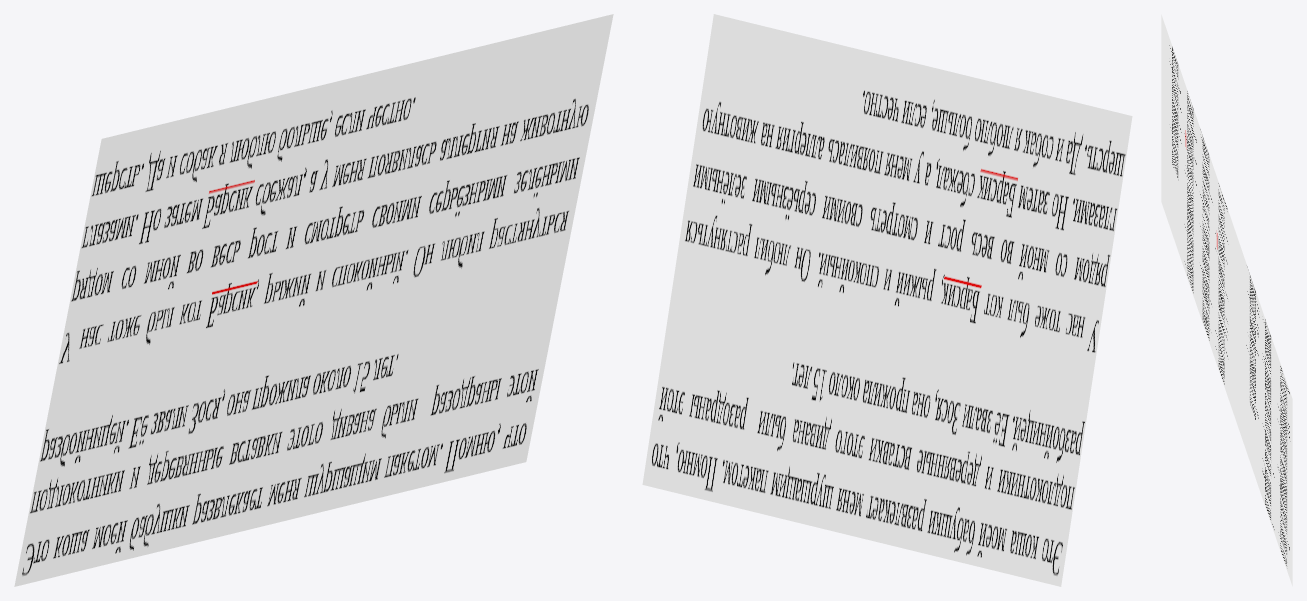
The model's file is kids.gltf.
3 renders of one model, left to right at view 1: azimuth 30°, elevation 25°; view 2: azimuth 150°, elevation 25°; view 3: azimuth 270°, elevation 25°, orthographic. The views are drawn at different scales.
Visible parts, largest first — view 1: Плоскость; view 2: Плоскость; view 3: Плоскость.
Boxes of the visible parts, left/top/right/bottom form: Плоскость: left=14, top=14, right=613, bottom=586; Плоскость: left=642, top=14, right=1132, bottom=586; Плоскость: left=1161, top=14, right=1292, bottom=586.
Size of the model in its own units: 6 by 5.73 by 1.77.
1 material, 1 textured.
